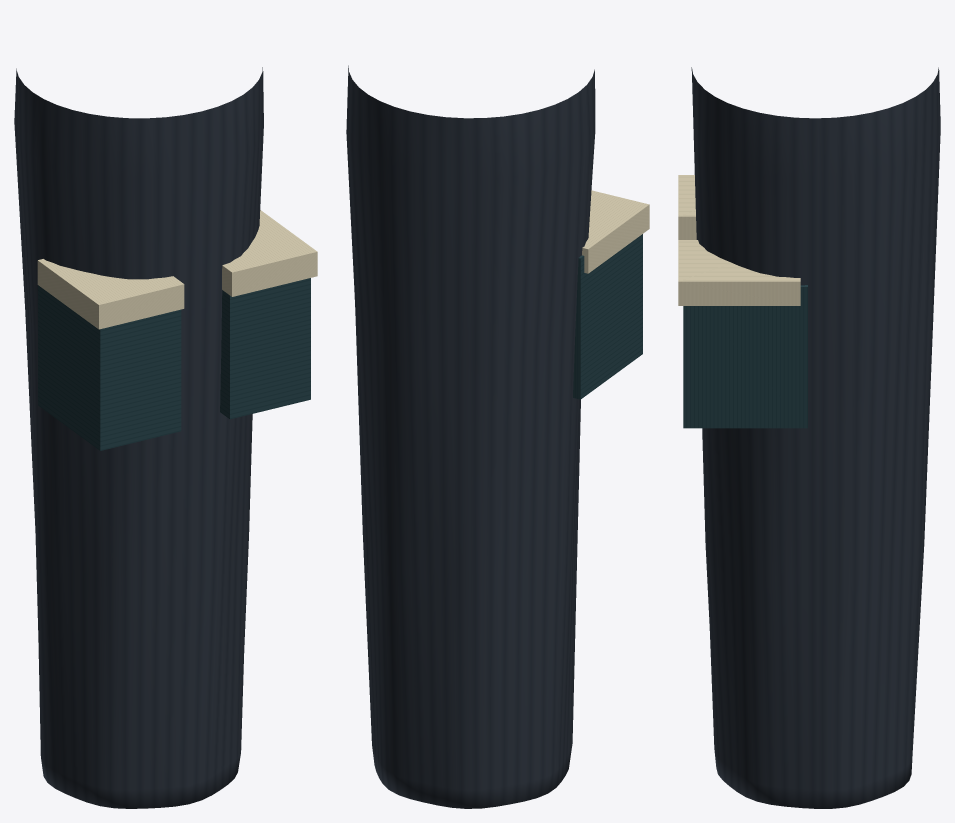
The model's file is reference_cargo_pants.gltf.
The picture shows the model from 3 angles, left to right: view 1: azimuth 30°, elevation 25°; view 2: azimuth 150°, elevation 25°; view 3: azimuth 270°, elevation 25°; orthographic projection.
Parts seen in each view (by area): view 1: LegL, LegR; view 2: LegL; view 3: LegL, LegR.
Part boxes in pixels (left/top/right/bottom): LegL: left=14, top=67, right=263, bottom=808; LegR: left=220, top=210, right=317, bottom=419; LegL: left=346, top=65, right=649, bottom=808; LegL: left=678, top=67, right=940, bottom=808; LegR: left=678, top=240, right=807, bottom=428.
Bounding box in the file's own units: 0.243 × 0.749 × 0.2527.
3 materials, 3 textured.
